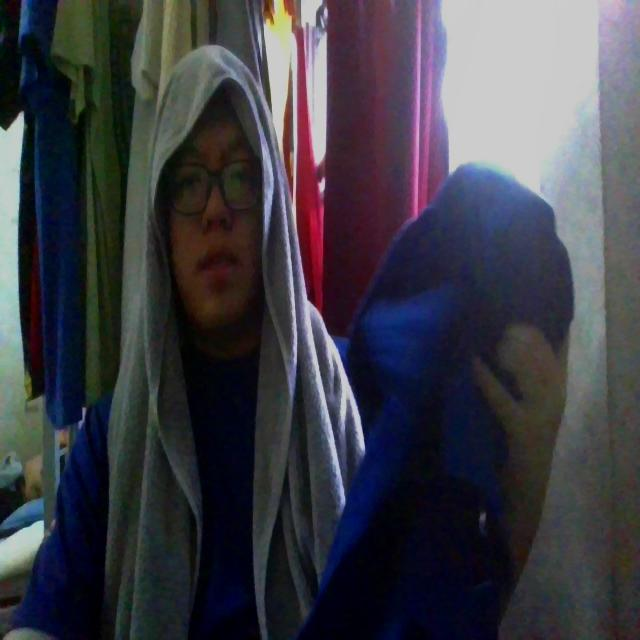person_without_labcoat: (8, 45, 572, 639)
